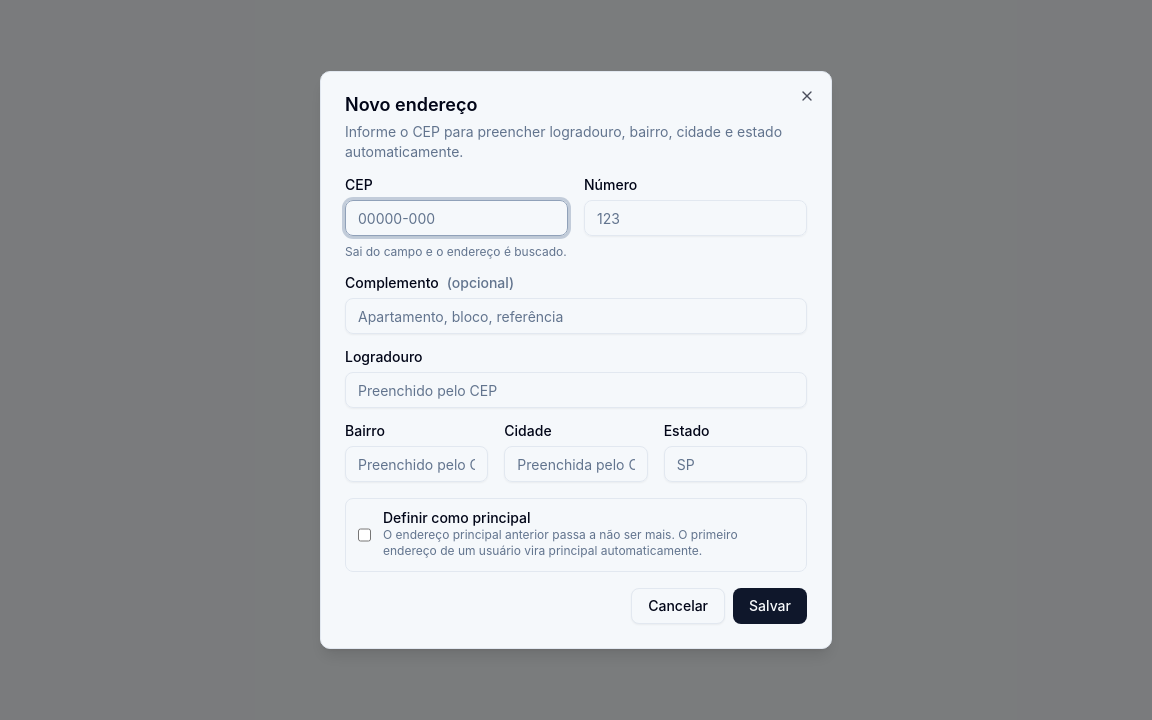
Test: EnderecoFormDialog: preenchimento automatico pelo CEP › CEP inexistente avisa e deixa preencher a mao, em vez de travar
Type "99999999" into the field labelled "CEP". click: (456, 218)
box: [345,200,568,236]
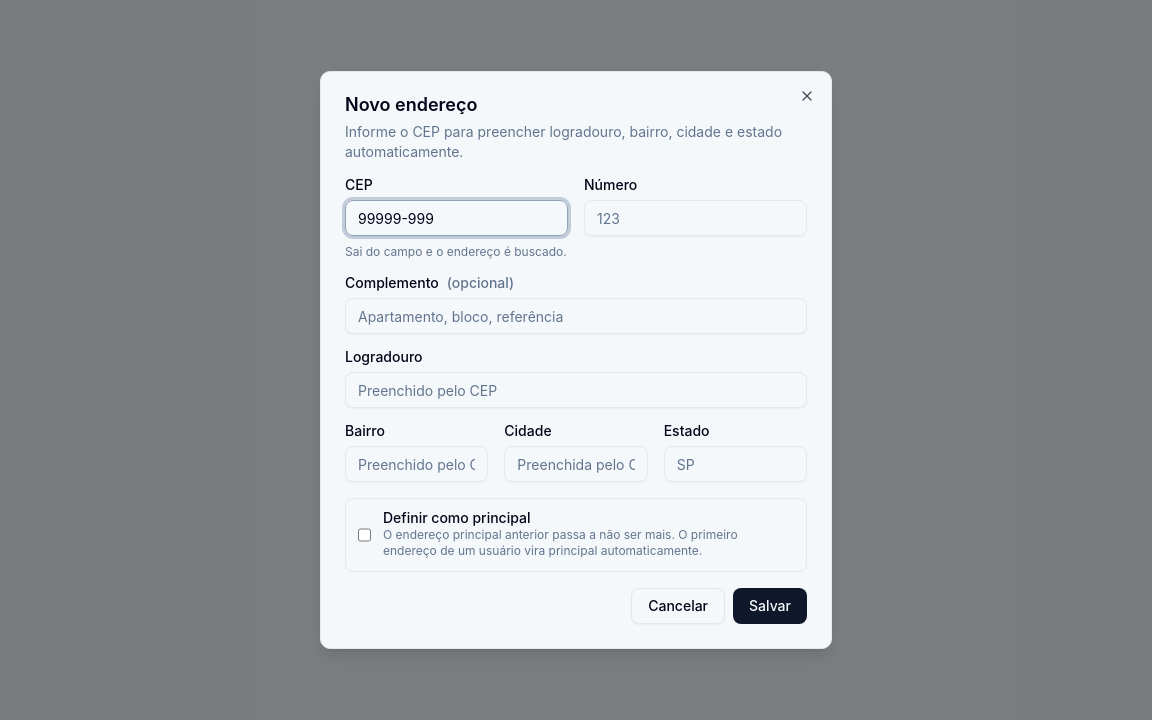
Press Tab
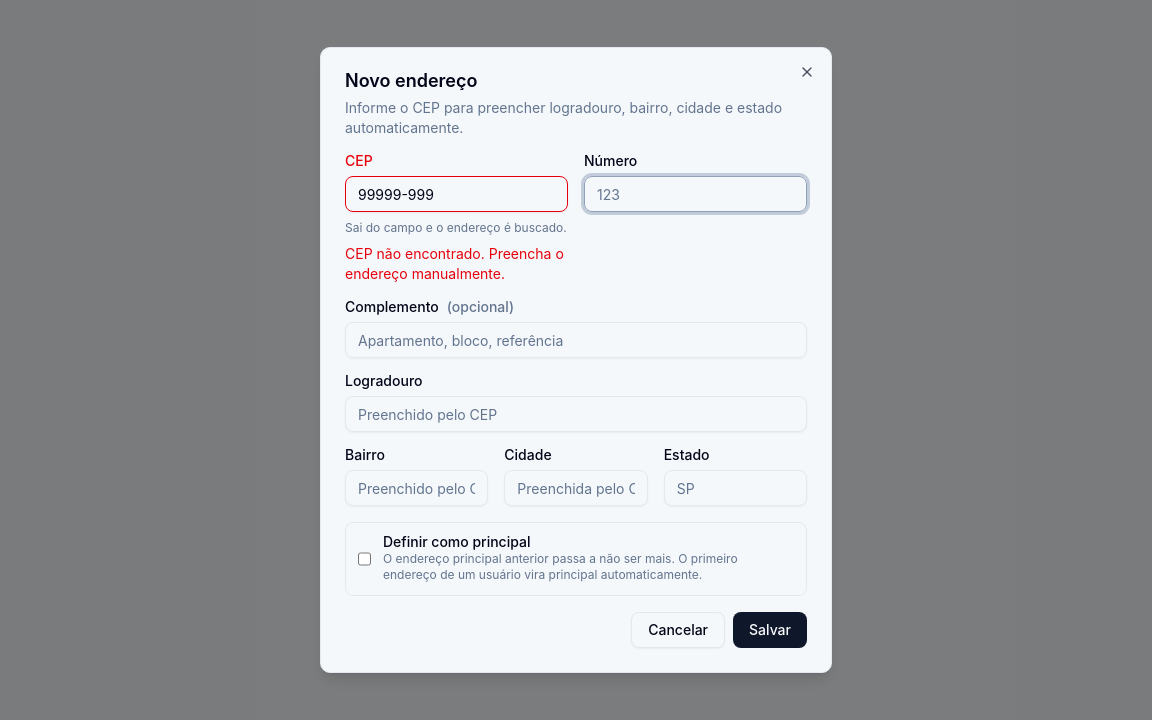
Check: the field labelled "Logradouro" is enabled, box [345,396,807,432]
Check: the text "CEP não encontrado. Preencha o endereço manualmente." is shown, box [345,244,568,284]
